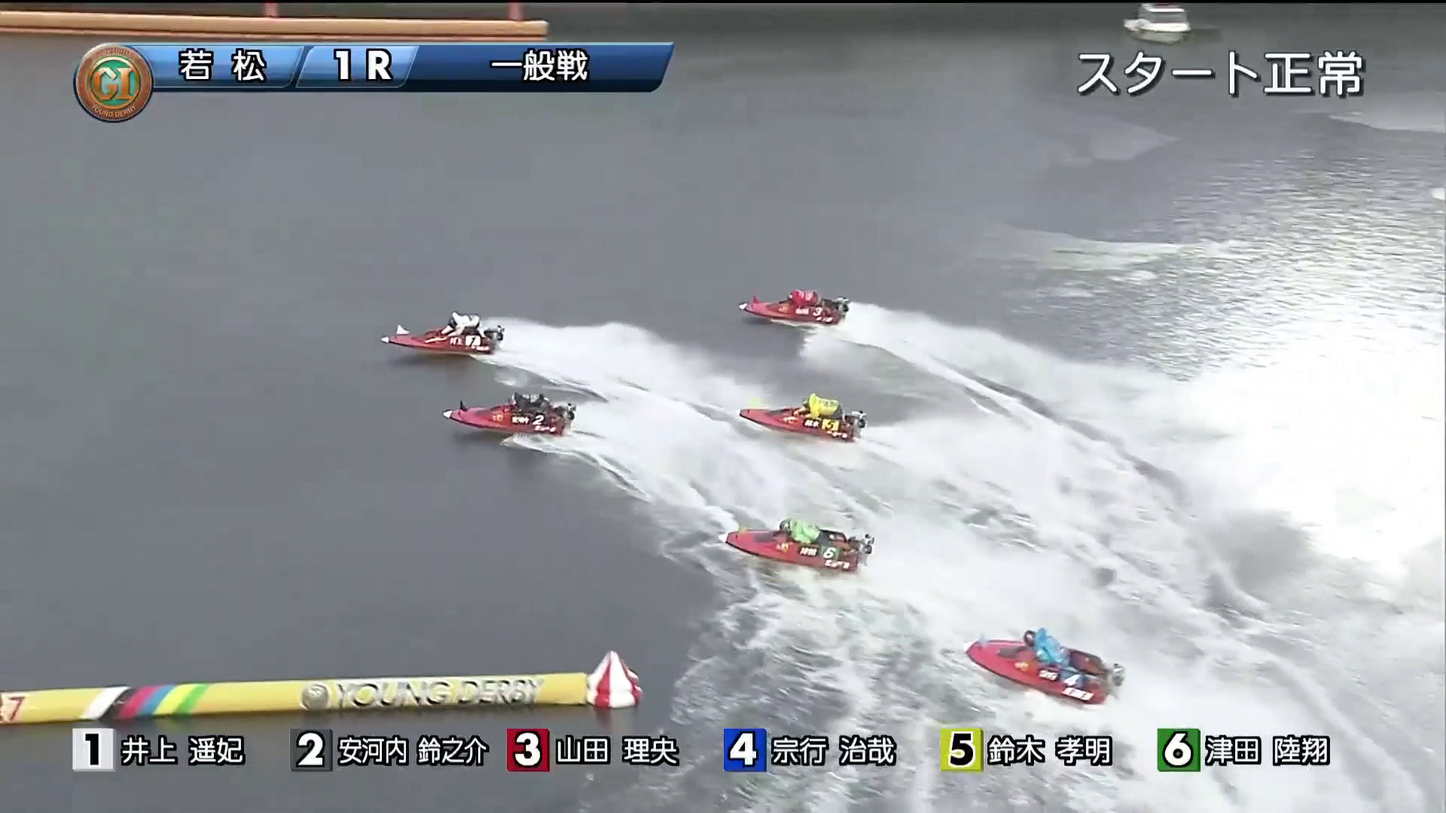１号艇: (396, 277, 466, 330)
２号艇: (425, 370, 554, 431)
３号艇: (760, 258, 857, 314)
４号艇: (738, 498, 872, 564)
５号艇: (996, 637, 1120, 692)
６号艇: (741, 357, 841, 437)
